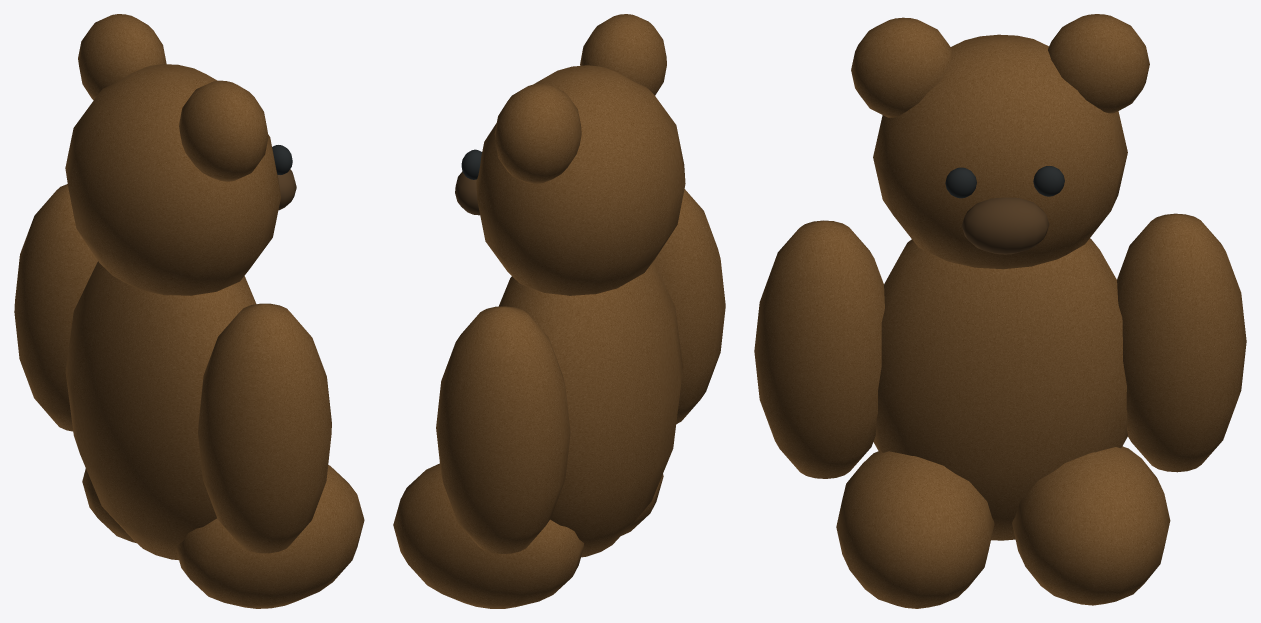
The model's file is SM_TeddyPrize_a6adc272f0.fbx.
The picture shows the model from 3 angles, left to right: view 1: azimuth 30°, elevation 25°; view 2: azimuth 150°, elevation 25°; view 3: azimuth 270°, elevation 25°; orthographic projection. The views are drawn at different scales.
Visible parts, largest first — view 1: SM_TeddyPrize_a6adc272f0; view 2: SM_TeddyPrize_a6adc272f0; view 3: SM_TeddyPrize_a6adc272f0.
Part boxes in pixels (<box>): SM_TeddyPrize_a6adc272f0: <box>14,14,364,608</box>; SM_TeddyPrize_a6adc272f0: <box>393,14,725,608</box>; SM_TeddyPrize_a6adc272f0: <box>754,14,1246,608</box>.
Size of what is drawn, in the model's own units: 32.94 by 58.64 by 72.33.
3 materials, 1 textured.
